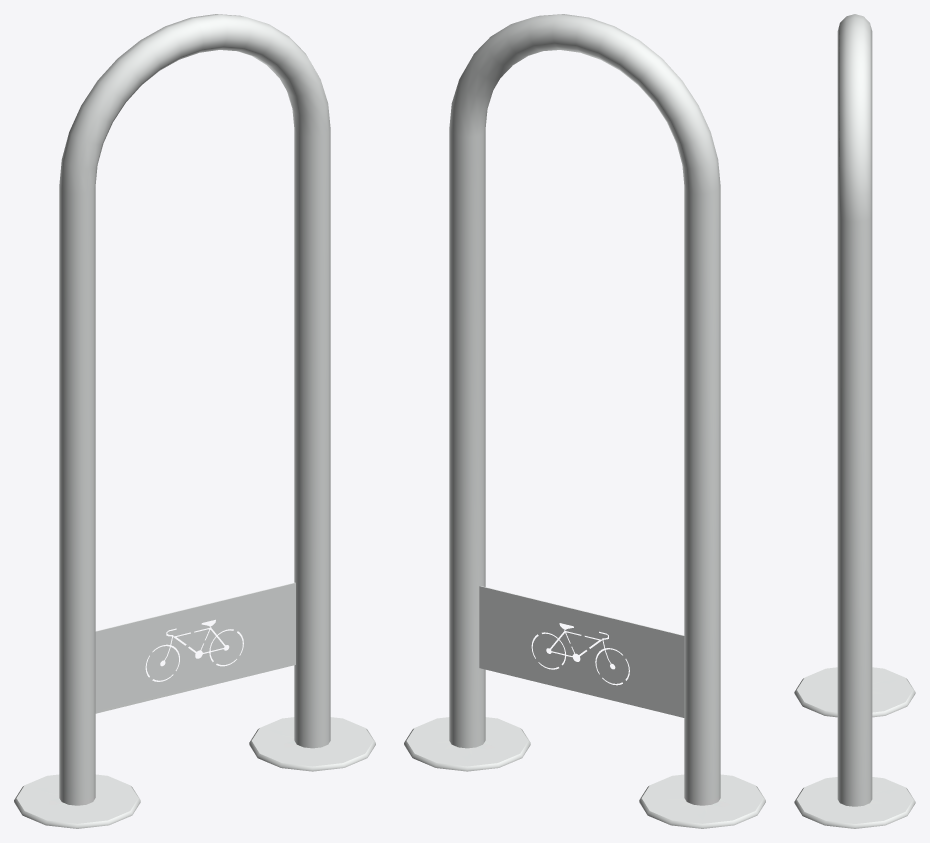
The model's file is fixture-bike-rack.glb.
The picture shows the model from 3 angles, left to right: view 1: azimuth 30°, elevation 25°; view 2: azimuth 150°, elevation 25°; view 3: azimuth 270°, elevation 25°; orthographic projection. The views are drawn at different scales.
Parts seen in each view (by area): view 1: FNEX0502_Bicycle_rack_Material__832_0; view 2: FNEX0502_Bicycle_rack_Material__832_0; view 3: FNEX0502_Bicycle_rack_Material__832_0.
Part boxes in pixels (<box>): FNEX0502_Bicycle_rack_Material__832_0: <box>14,14,375,828</box>; FNEX0502_Bicycle_rack_Material__832_0: <box>404,14,765,828</box>; FNEX0502_Bicycle_rack_Material__832_0: <box>794,14,915,828</box>.
Bounding box in the file's own units: 0.44 × 0.9201 × 0.14.
Materials: 1 (1 with a texture image).
